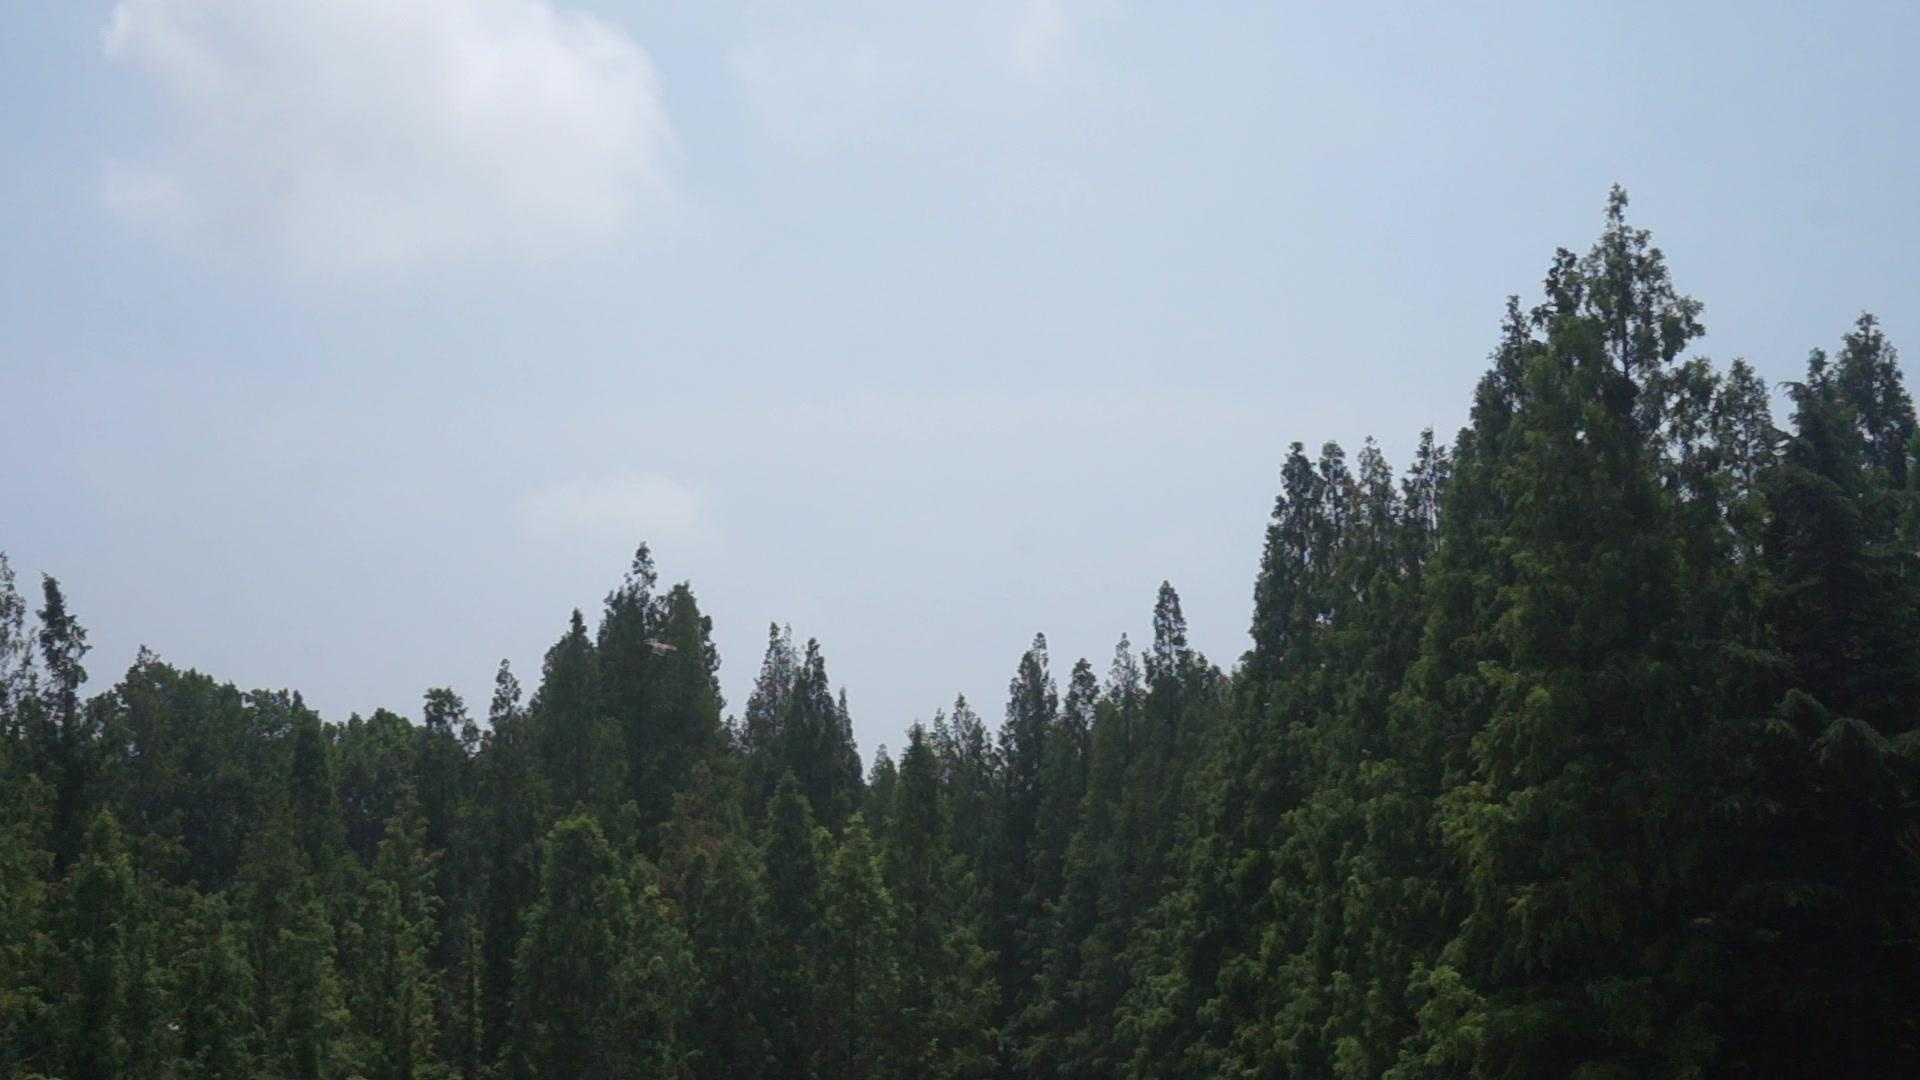UAV: (645, 640, 679, 657)
